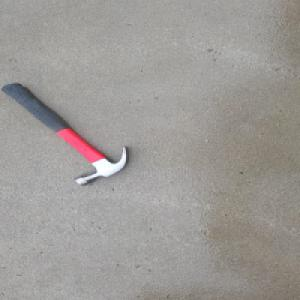Hammer: (3, 81, 132, 185)
